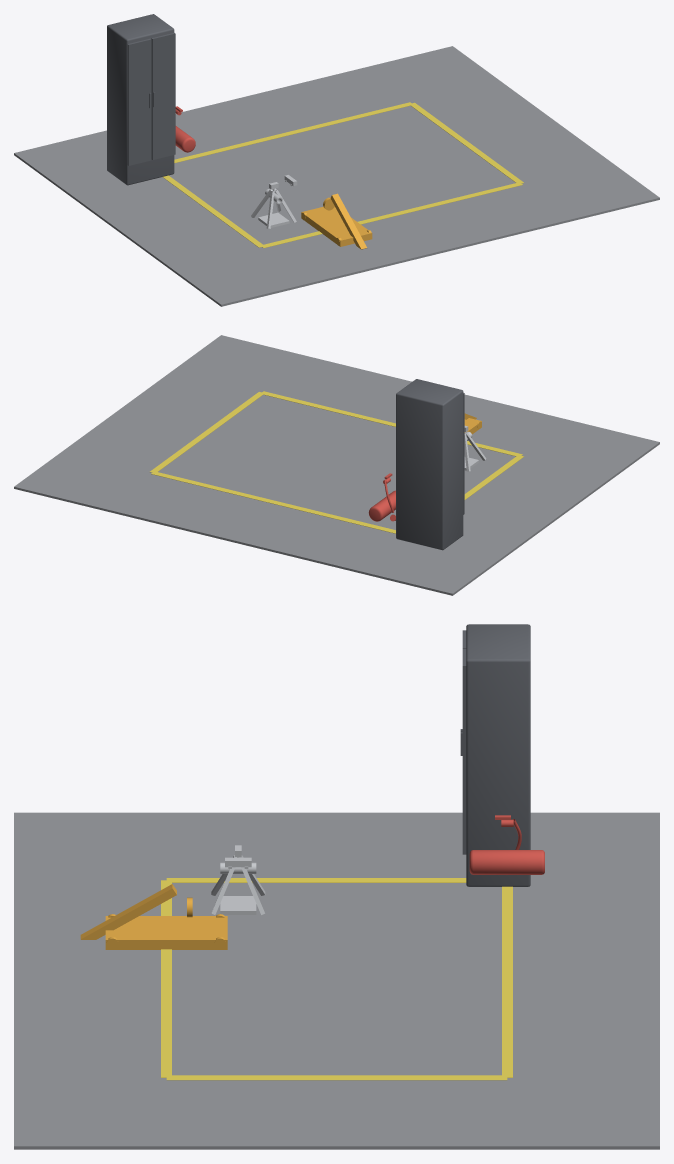
File: atolye.glb
The picture shows the model from 3 angles, top to bottom: view 1: azimuth 30°, elevation 25°; view 2: azimuth 150°, elevation 25°; view 3: azimuth 270°, elevation 25°; orthographic projection. The views are drawn at different scales.
Parts seen in each view (by area): view 1: zemin, kkd_dolabi, calisma_alani, kriko, sehpa; view 2: zemin, kkd_dolabi, calisma_alani, yangin_tupu, sehpa; view 3: zemin, kkd_dolabi, calisma_alani, kriko, yangin_tupu, sehpa.
Boxes of the visible parts, x1,y1,x2,y2 form: zemin: (14,46,659,306); kkd_dolabi: (107,14,175,185); calisma_alani: (163,102,523,248); kriko: (301,193,372,249); sehpa: (251,182,296,228); zemin: (14,335,659,595); kkd_dolabi: (396,379,464,550); calisma_alani: (150,391,524,533); yangin_tupu: (368,473,395,521); sehpa: (464,425,486,471); zemin: (14,812,659,1149); kkd_dolabi: (460,624,530,886); calisma_alani: (161,878,512,1080); kriko: (80,884,227,949); yangin_tupu: (469,815,544,874); sehpa: (211,845,265,914).
Bounding box in the file's own units: 4.4 × 1.44 × 3.6.
